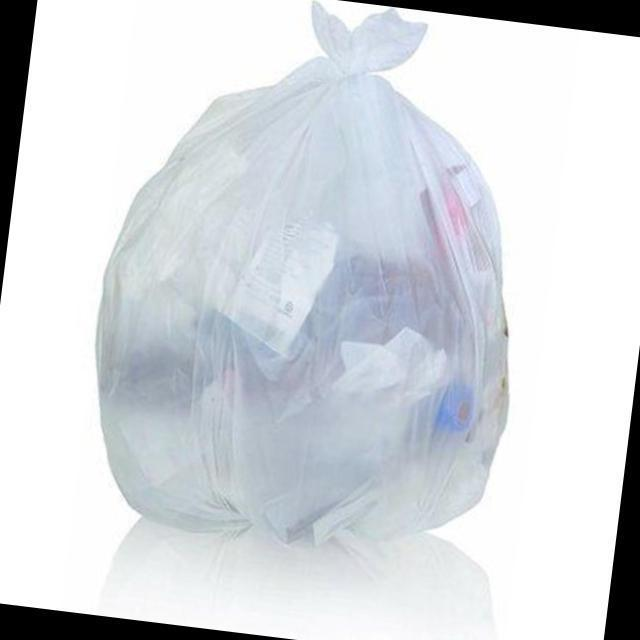Garbage_Bag: (69, 0, 559, 585)
